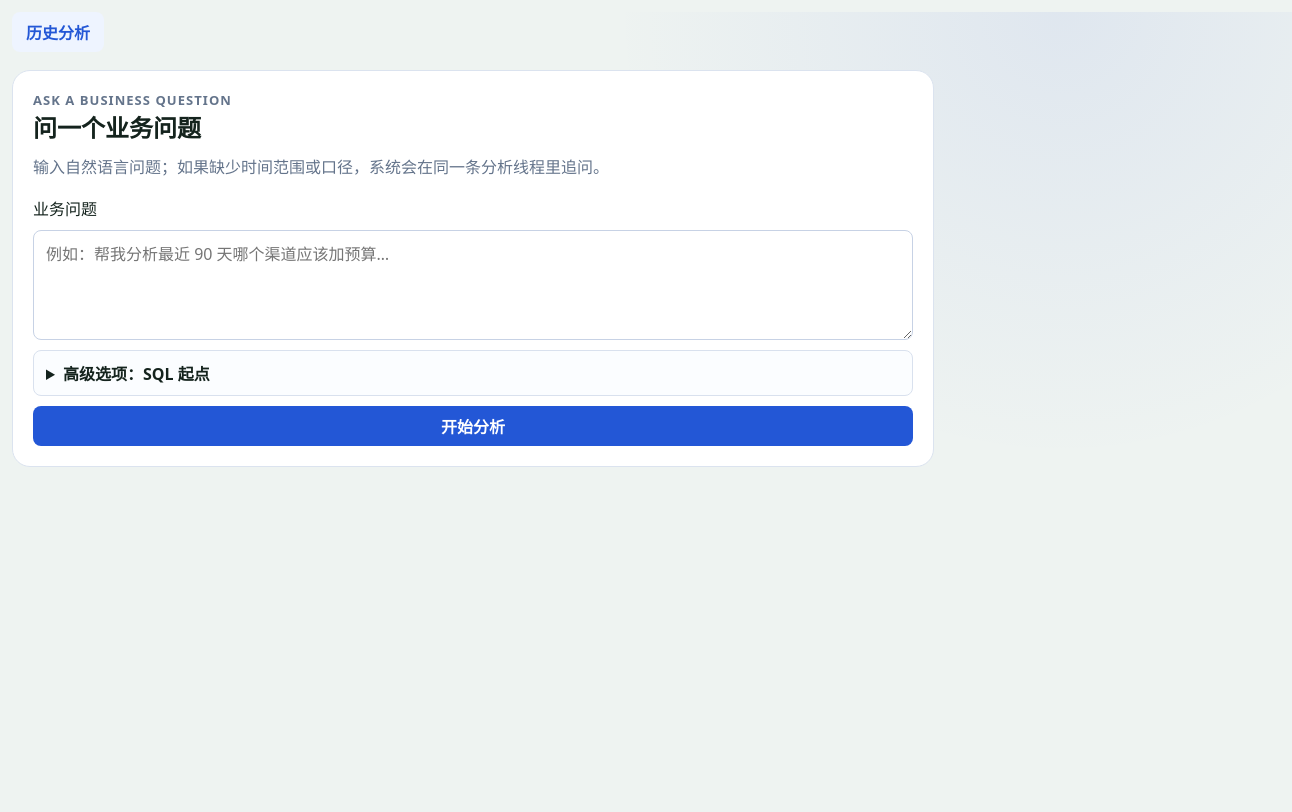
Test: workspace product components › keeps long task questions clamped and does not place full answers or SQL in the task card
Type "最近90天请帮我非常详细地分析每一家门店的销售额、订单量、满意度、复购率，并说明销售额最高的门店是谁以及为什么它表现最好" into the text box labelled "业务问题" at (473, 285), box [33,230,913,340]
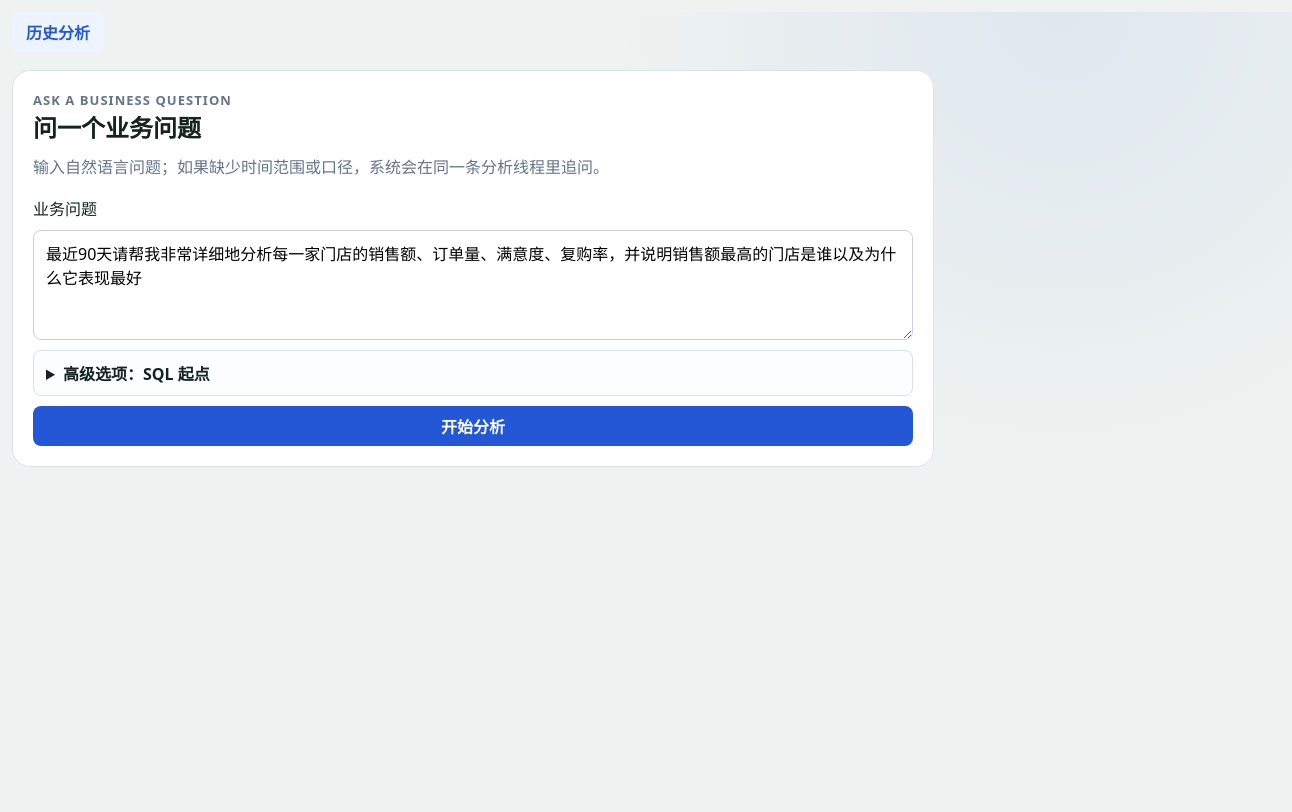
Click the button "开始分析" at (473, 426), box [33,406,913,446]
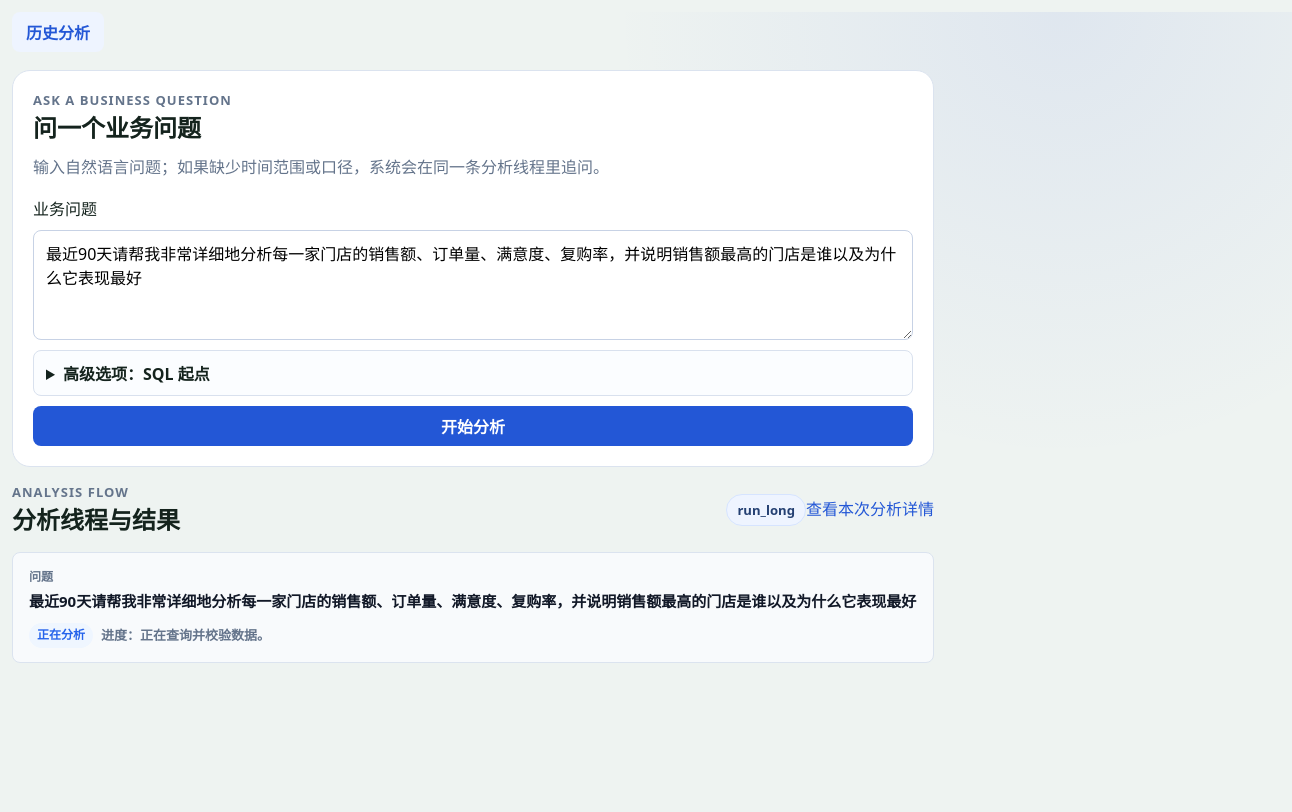
Expected: the link with aria-label "当前分析任务" shows "最近90天请帮我非常详细地分析每一家门店的销售额、订单量、满意度、复购率，并说明销售额最高的门店是谁以及为什么它表现最好", [12,552,934,662]
